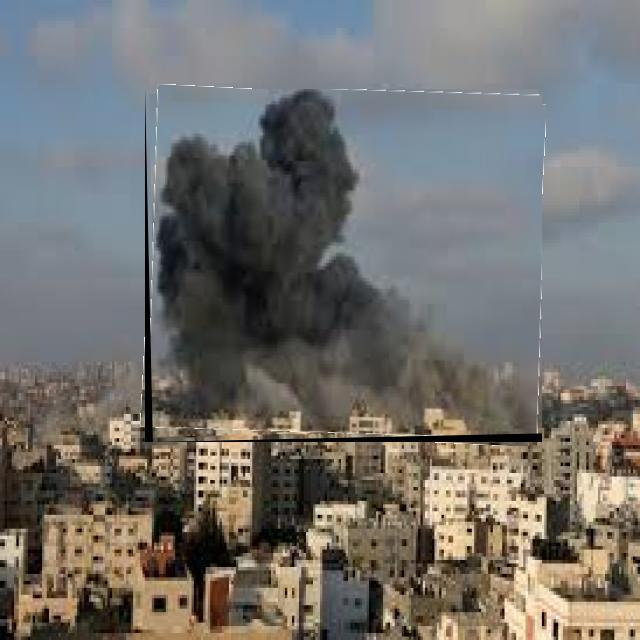smoke: (156, 266, 418, 411), (160, 92, 361, 264)
